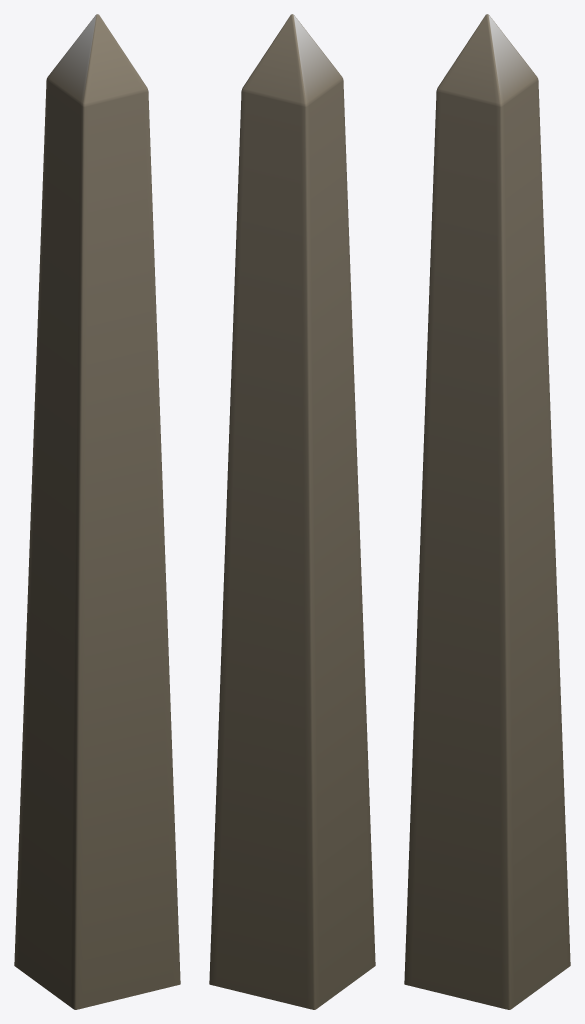
Rendered from SM_Monolith.fbx.
The picture shows the model from 3 angles, left to right: view 1: azimuth 30°, elevation 25°; view 2: azimuth 150°, elevation 25°; view 3: azimuth 330°, elevation 25°; orthographic projection.
Visible parts, largest first — view 1: SM_Monolith; view 2: SM_Monolith; view 3: SM_Monolith.
Part boxes in pixels (x1=…): SM_Monolith: x1=14, y1=14, x2=180, y2=1009; SM_Monolith: x1=209, y1=14, x2=375, y2=1009; SM_Monolith: x1=404, y1=14, x2=570, y2=1009.
Size of the model in its own units: 6.49 by 55.96 by 6.49.
